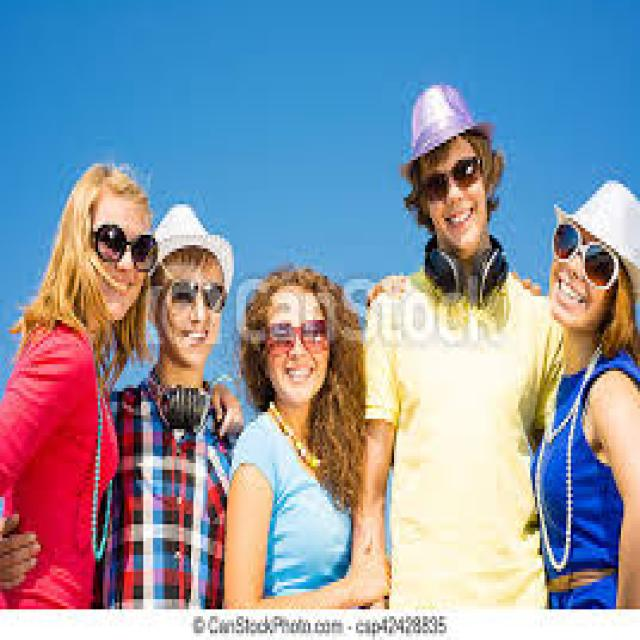hat: (399, 82, 511, 258), (146, 201, 234, 368), (549, 174, 640, 326)
head: (67, 167, 157, 320), (253, 276, 339, 402)
